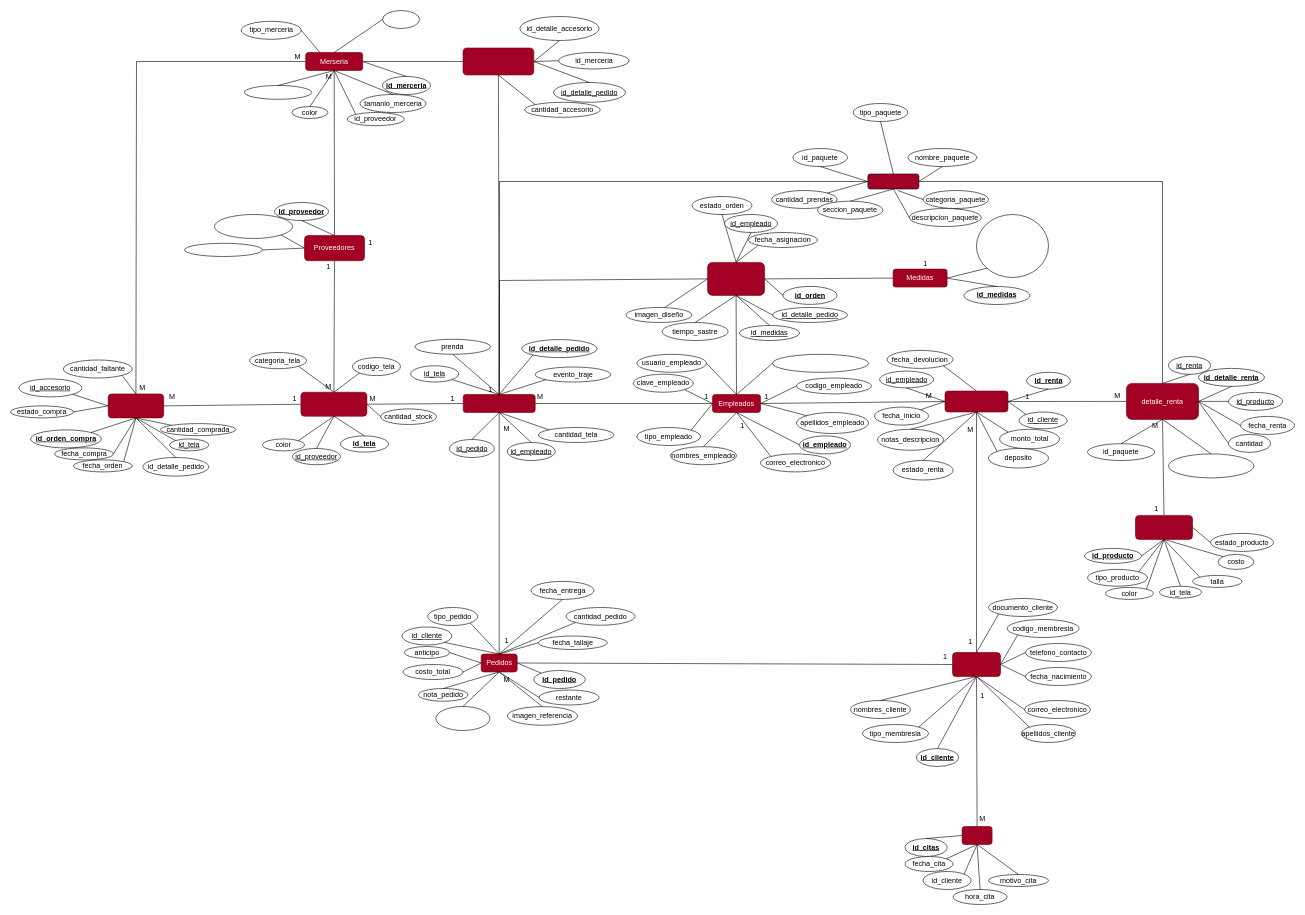
Some shapes in this 1305 by 915 pixel diagram are drawn without their labels. The shapes that lost their labels are listed below. From the top down, each one's centre as x and y in pixels, then its label:
At [401,19]: "stock".
At [498,61]: "detalle_merceria".
At [278,92]: "codigo_merceria".
At [893,181]: "Paquetes".
At [253,226]: "nombre_proveedor".
At [1012,246]: "Revisar excel para ver las muestras para las medidas".
At [223,249]: "codigo_proveedor".
At [736,278]: "orden_trabajo".
At [820,363]: "documentos_empleados".
At [136,405]: "orden_compra".
At [333,404]: "Telas".
At [499,403]: "detalle_pedidos".
At [976,401]: "Rentas".
At [1211,465]: "estado_producto_renta".
At [1163,527]: "Productos".
At [976,664]: "Clientes".
At [462,718]: "estado_pedido".
At [977,835]: "Citas".
